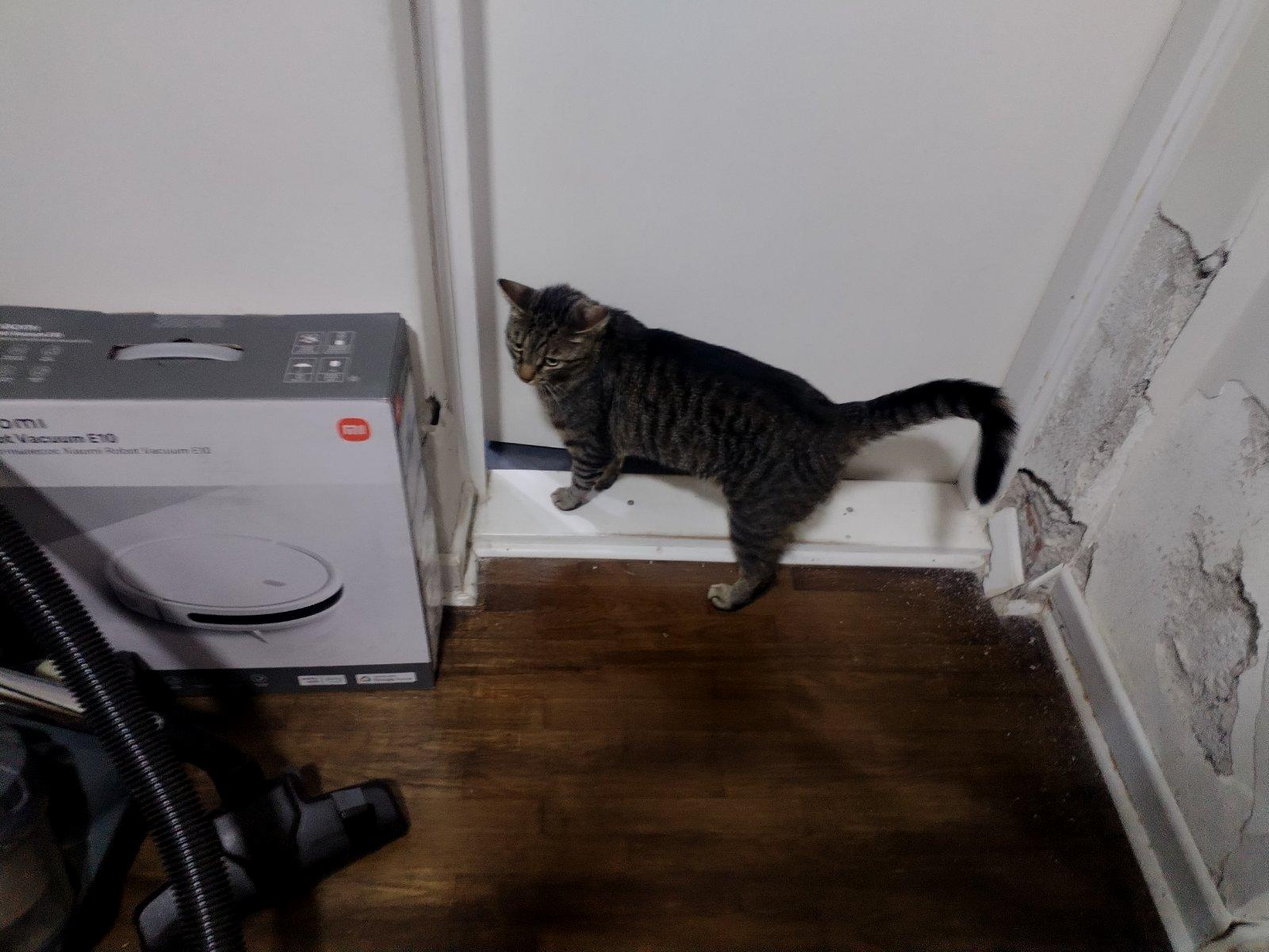macka: (493, 278, 1019, 617)
